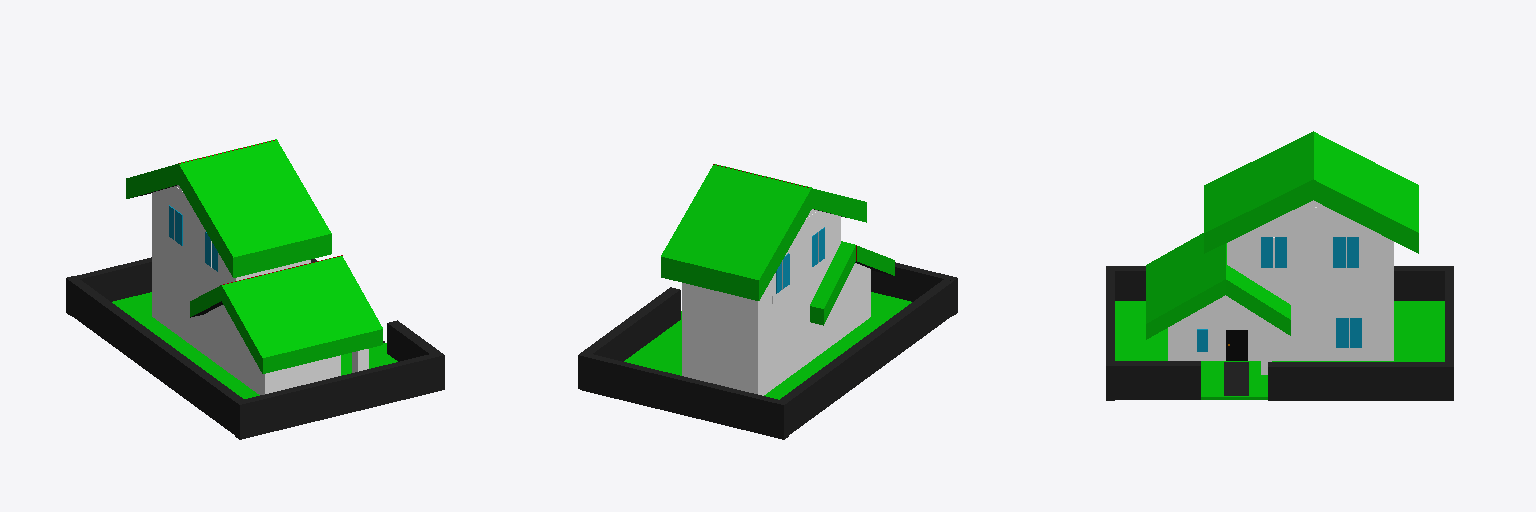
File: house03.obj
3 renders of one model, left to right at view 1: azimuth 30°, elevation 25°; view 2: azimuth 150°, elevation 25°; view 3: azimuth 270°, elevation 25°, orthographic.
Visible parts, largest first — view 1: Cube; view 2: Cube; view 3: Cube.
Boxes of the visible parts, <box> form: Cube: <box>66,139,444,439</box>; Cube: <box>578,164,957,439</box>; Cube: <box>1106,131,1453,400</box>.
Bounding box in the file's own units: 13.99 × 12.33 × 20.41.